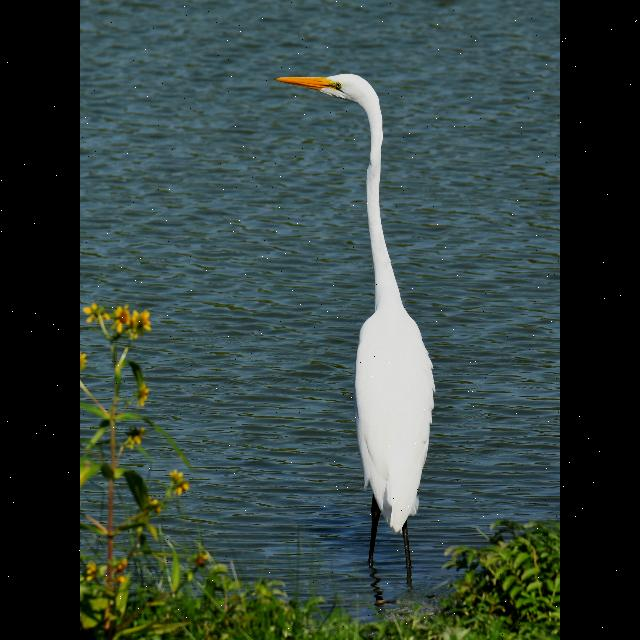egret: (272, 53, 462, 570)
